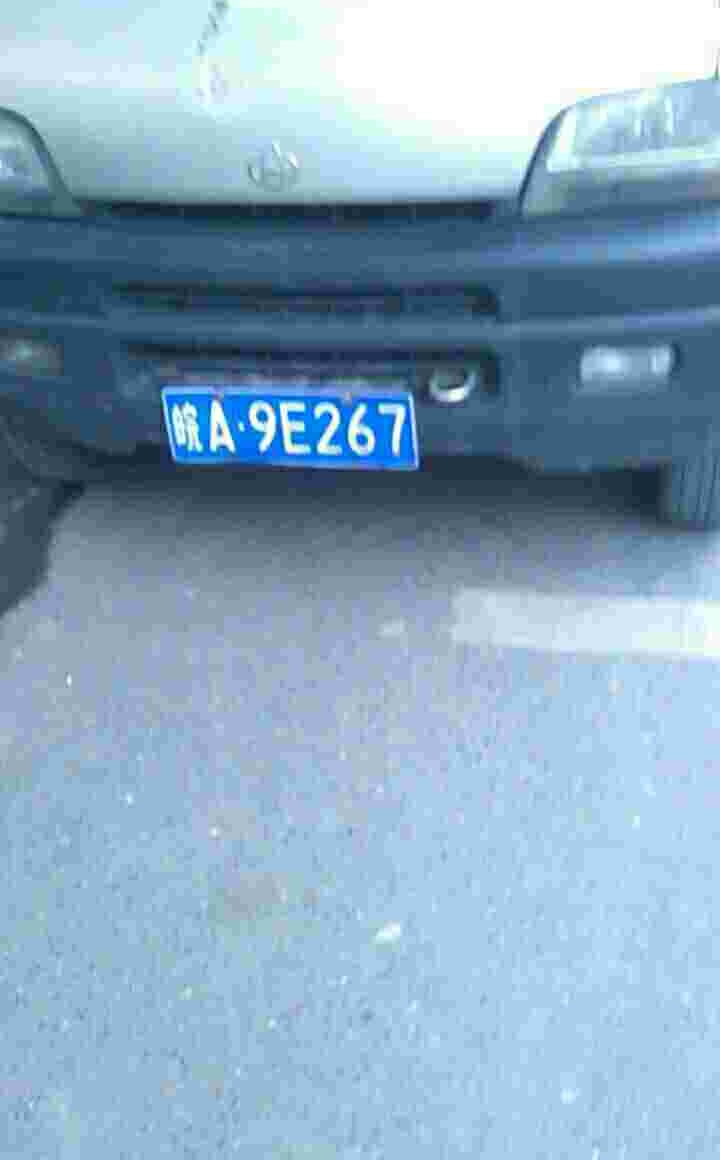plate: (162, 385, 426, 471)
